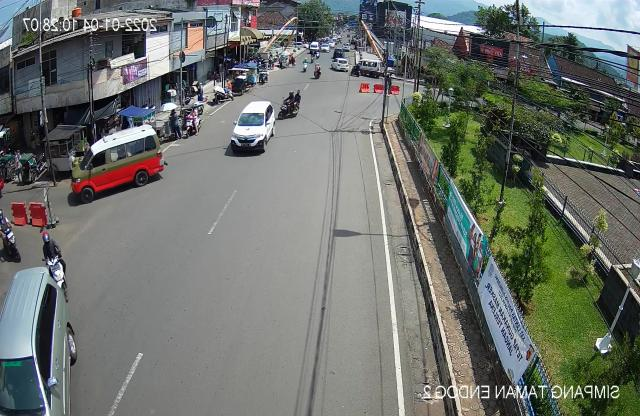Mobil: (1, 265, 80, 416), (65, 122, 167, 207), (227, 102, 277, 161)
Motor: (40, 227, 72, 298), (0, 208, 19, 268), (274, 88, 306, 122), (179, 104, 207, 140)
